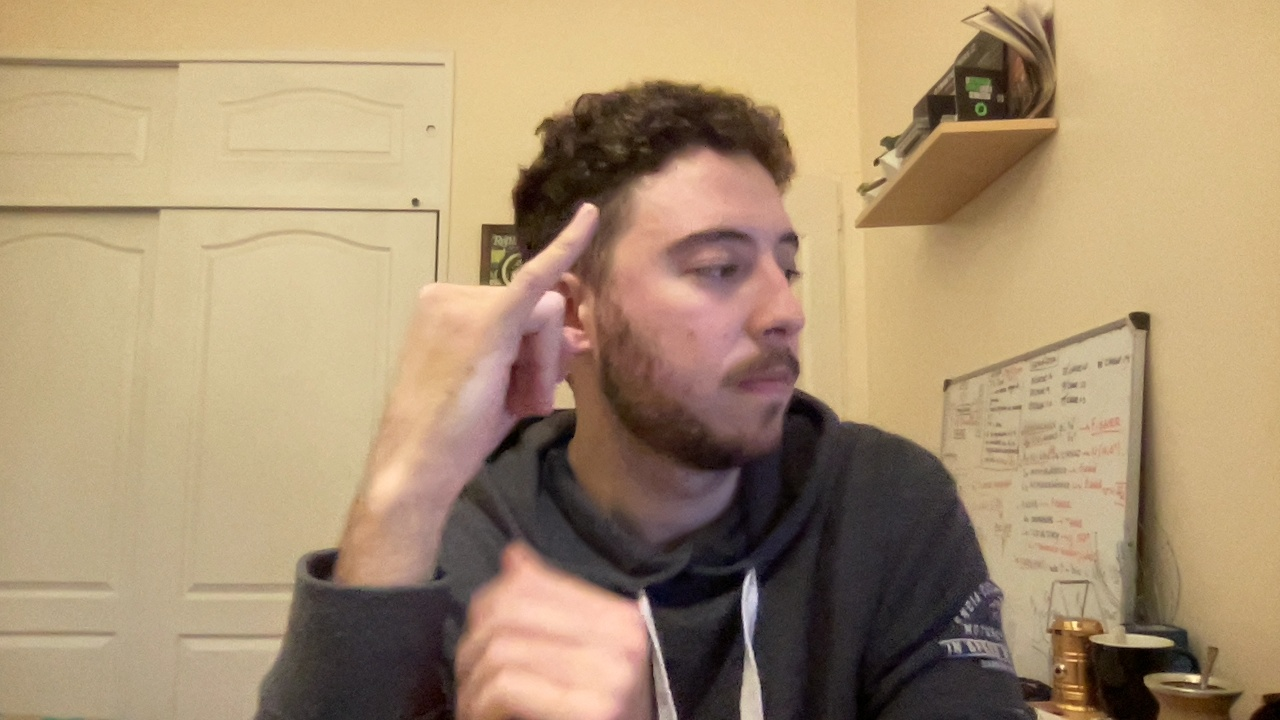menique: (336, 178, 633, 495)
